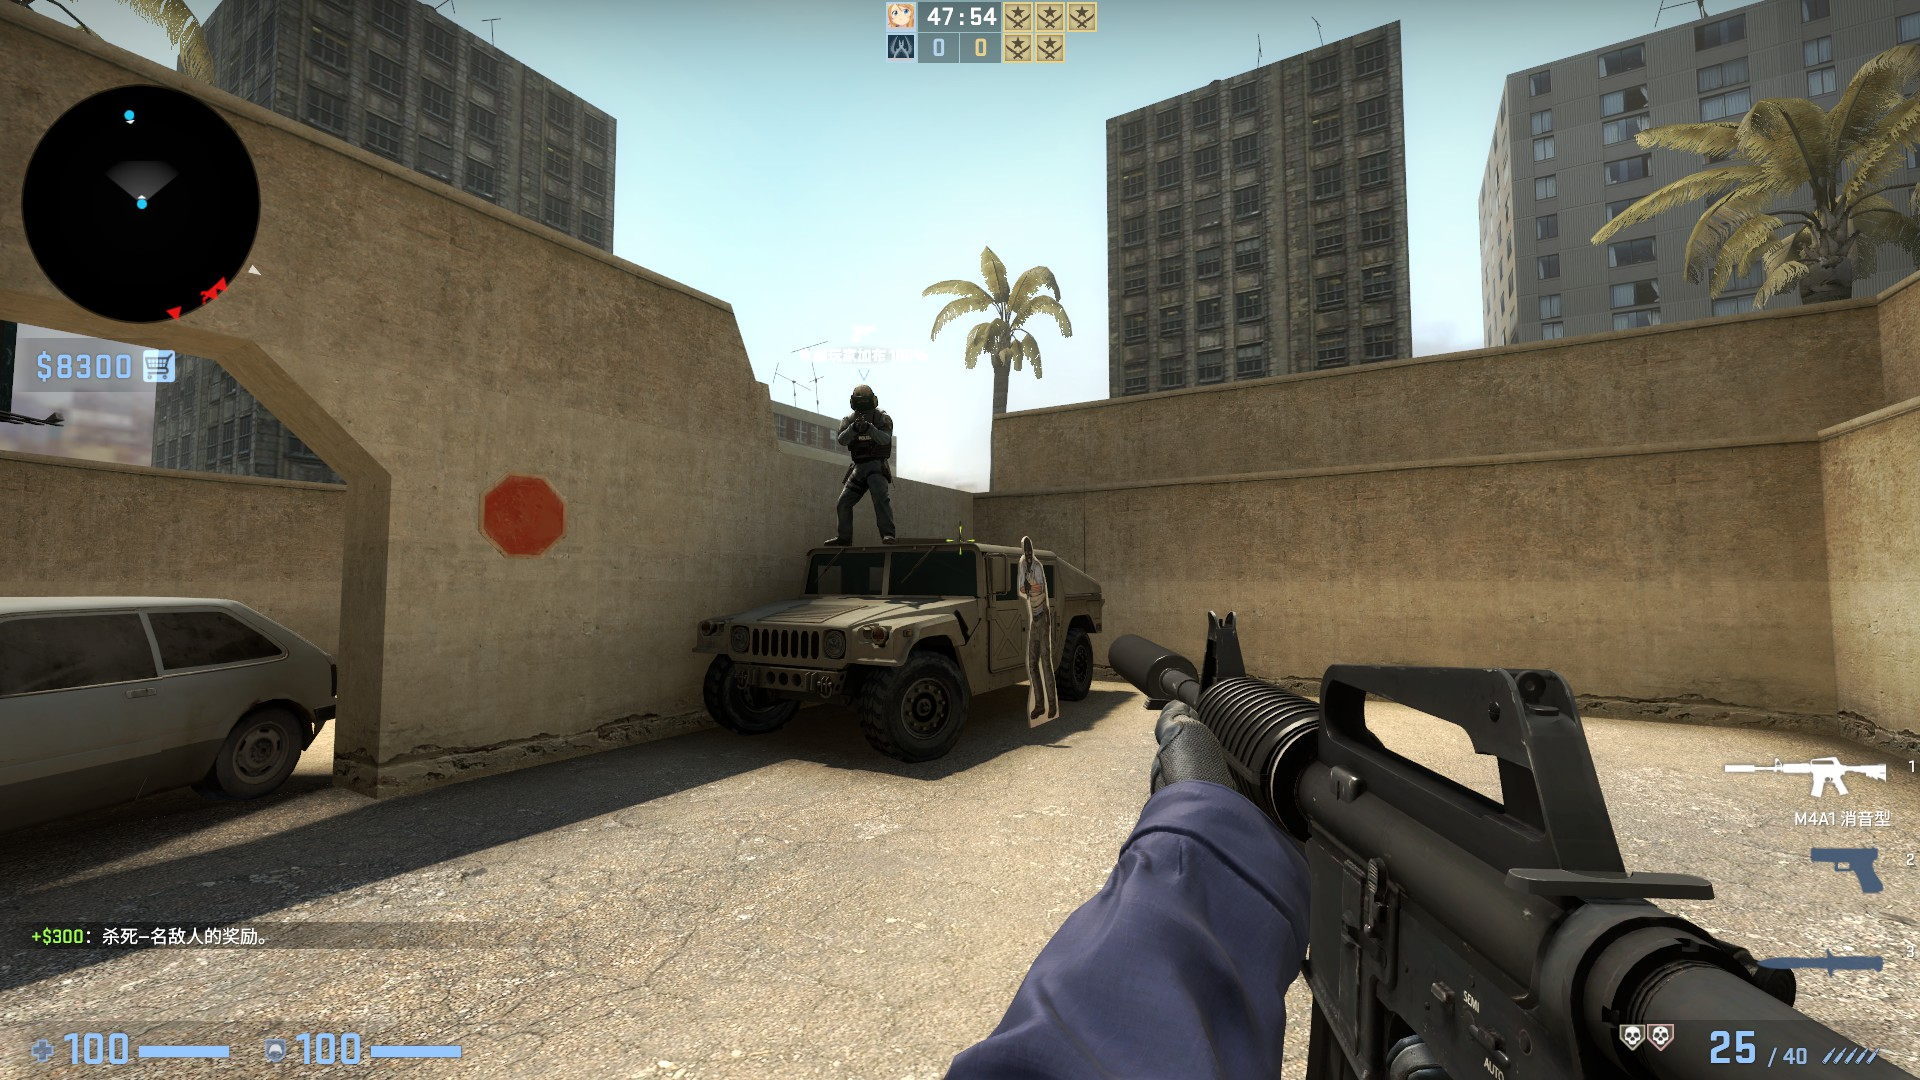head: (849, 384, 881, 416), (1020, 535, 1035, 567)
